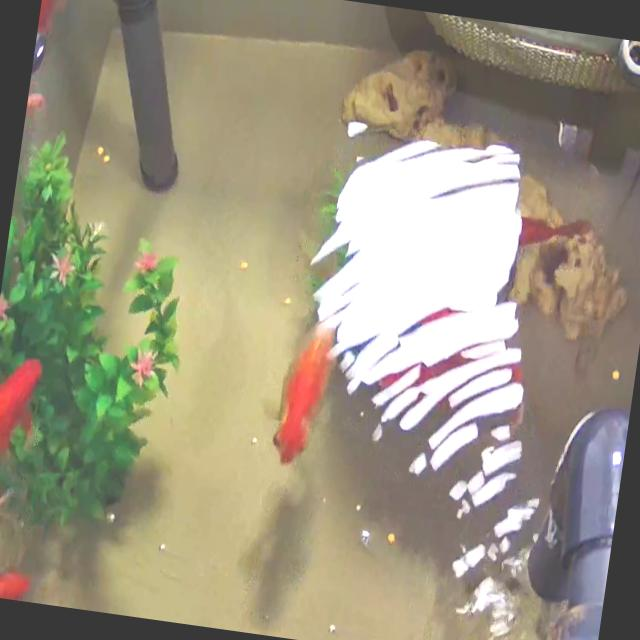fish: (266, 304, 336, 487), (0, 348, 40, 519), (38, 0, 66, 33)
